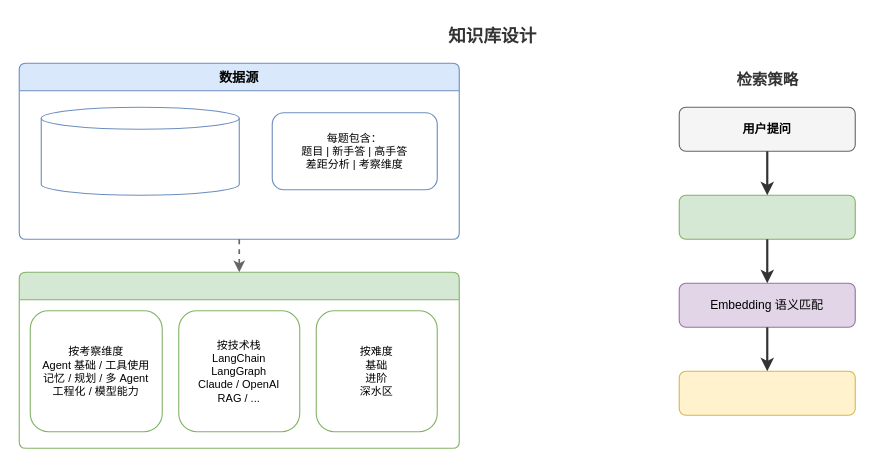
Image size: 875x468. Some labels were removed from this diagram. Each missing label, with the box of its shape:
learn-agent-interview/ 7 个维度文章（384 道题）: (40, 106, 239, 195)
按维度过滤: (678, 194, 855, 239)
索引维度: (18, 271, 459, 448)
返回 top-3 相关参考答案: (678, 370, 855, 415)
